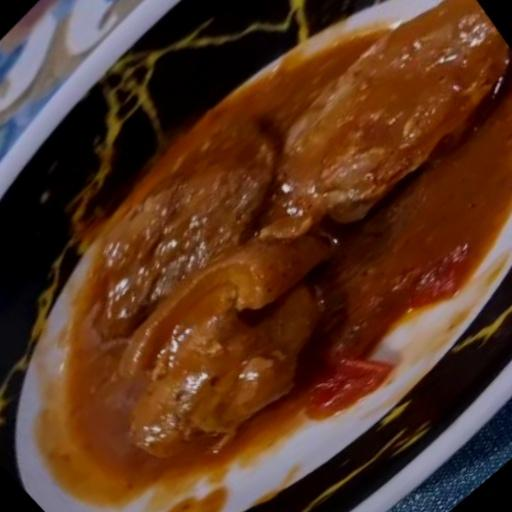pork caldereta: (69, 0, 511, 485)
